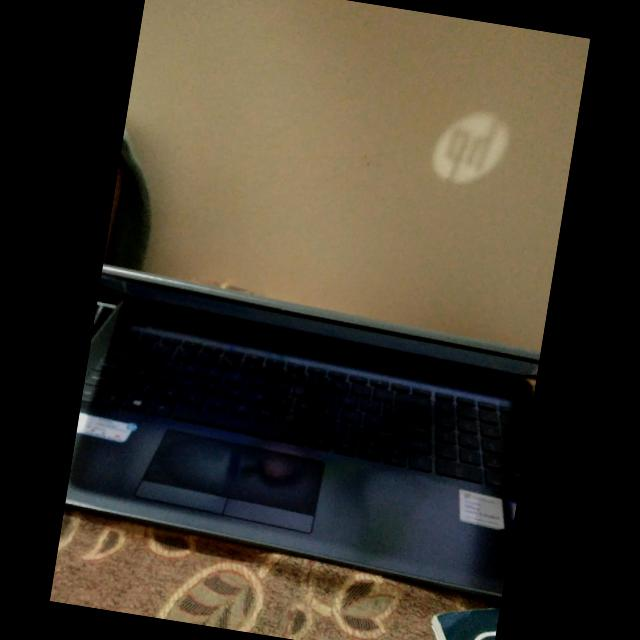laptop: (62, 246, 546, 602)
